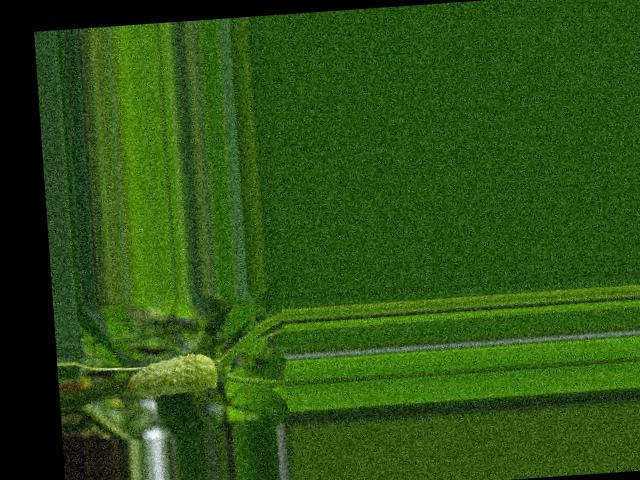cucumber: (123, 351, 218, 397)
